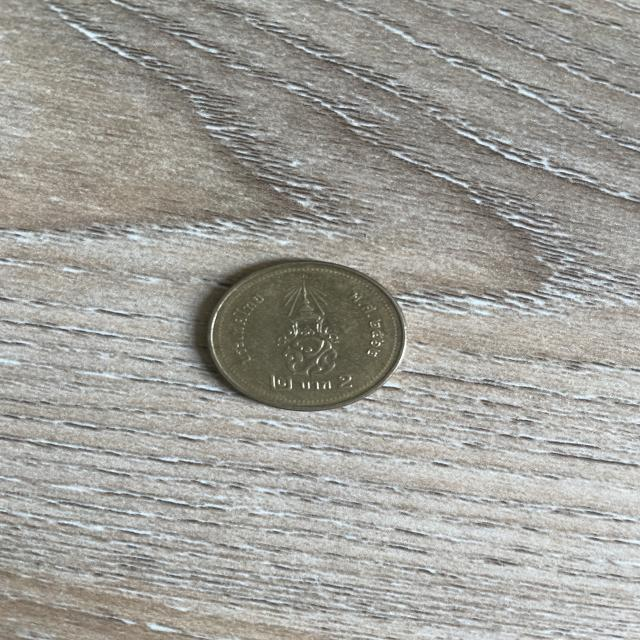2 Bath: (196, 255, 417, 418)
